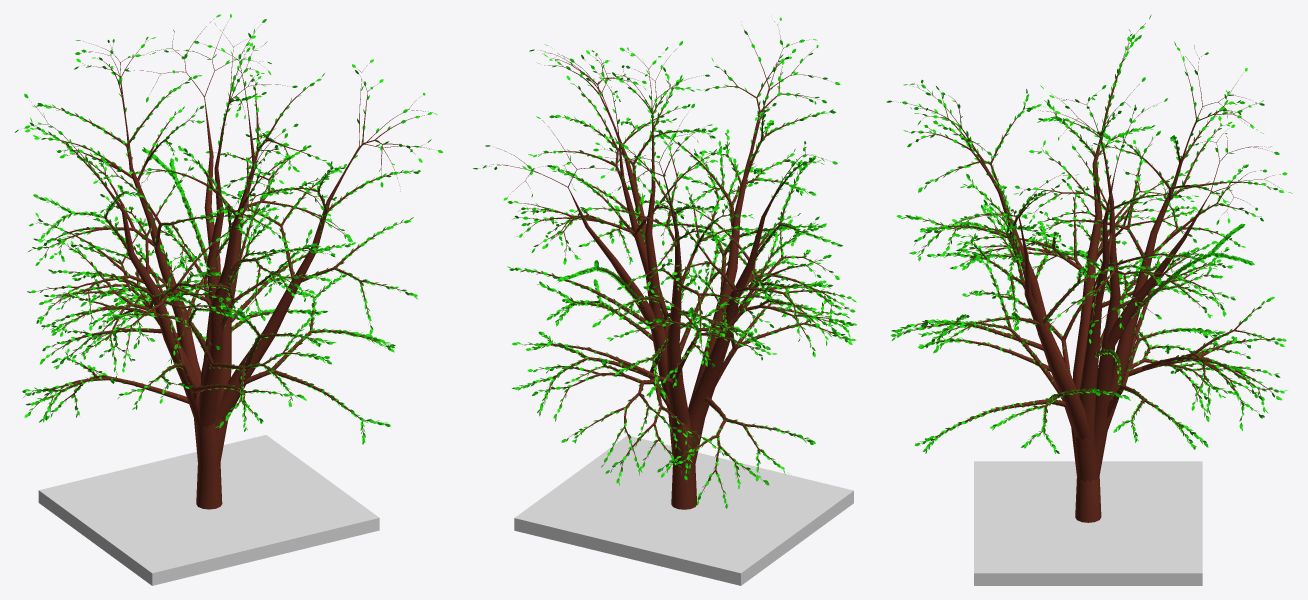
The model's file is Tree1.fbx.
The picture shows the model from 3 angles, left to right: view 1: azimuth 30°, elevation 25°; view 2: azimuth 150°, elevation 25°; view 3: azimuth 270°, elevation 25°; orthographic projection.
Parts seen in each view (by area): view 1: tree, Cube, leaves; view 2: tree, Cube, leaves; view 3: tree, Cube, leaves.
Boxes of the visible parts, x1,y1,x2,y2 form: tree: (24, 19, 431, 509); Cube: (38, 435, 379, 585); leaves: (15, 14, 443, 444); tree: (483, 21, 849, 509); Cube: (514, 435, 853, 585); leaves: (473, 17, 856, 508); tree: (893, 23, 1282, 522); Cube: (974, 461, 1202, 585); leaves: (886, 14, 1292, 453).
Size of the model in its own units: 1473 by 1819 by 1432.
